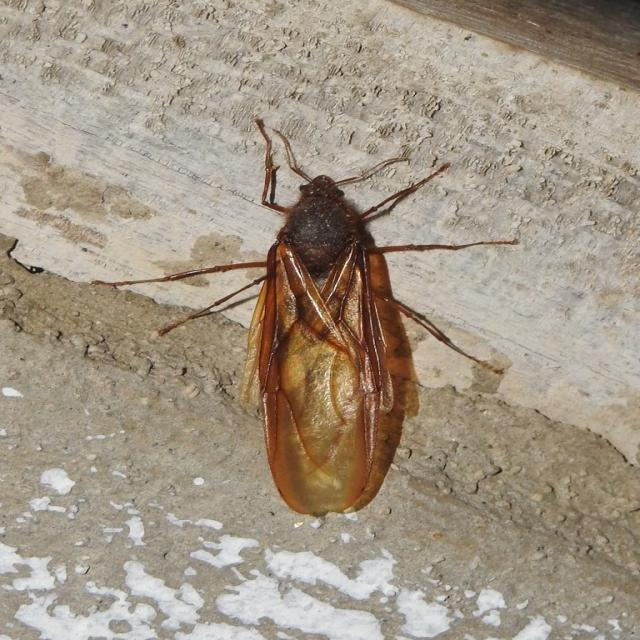Alive-Male-Alate: (91, 118, 520, 517)
